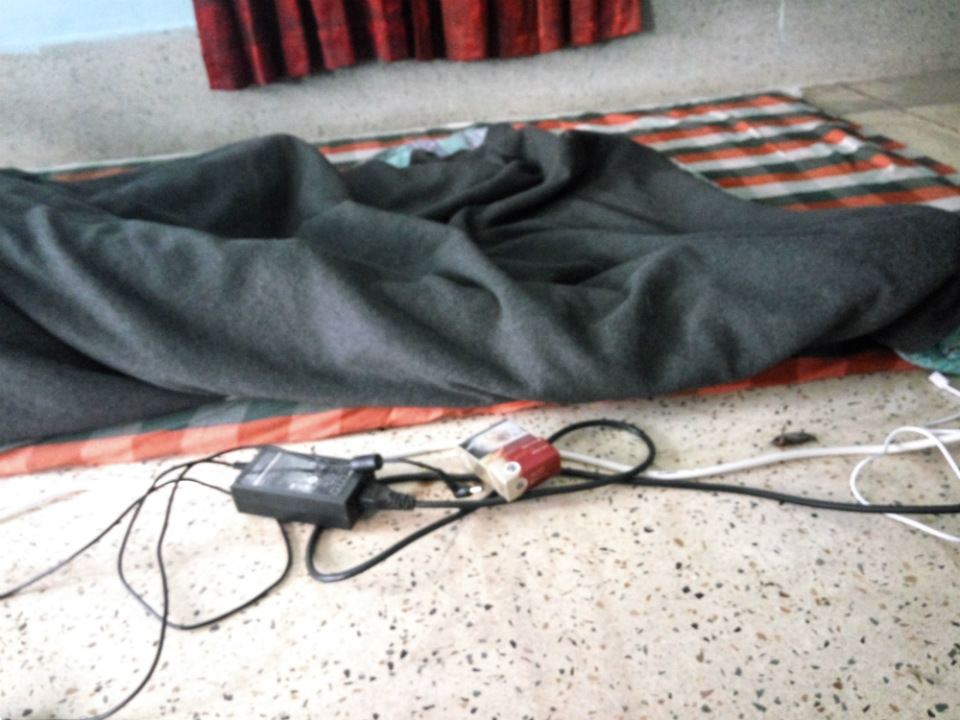cockroach: (703, 409, 840, 452)
